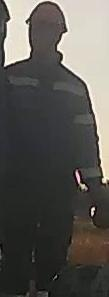gloves: (81, 176, 109, 231)
helmet: (24, 0, 67, 38)
vest: (3, 66, 93, 193)
